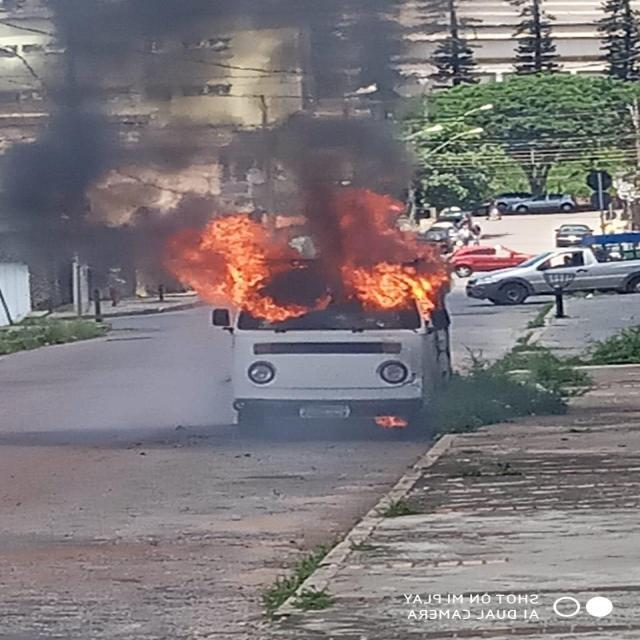Fire: (158, 185, 452, 329), (371, 413, 408, 429)
Smoke: (1, 0, 437, 314)
